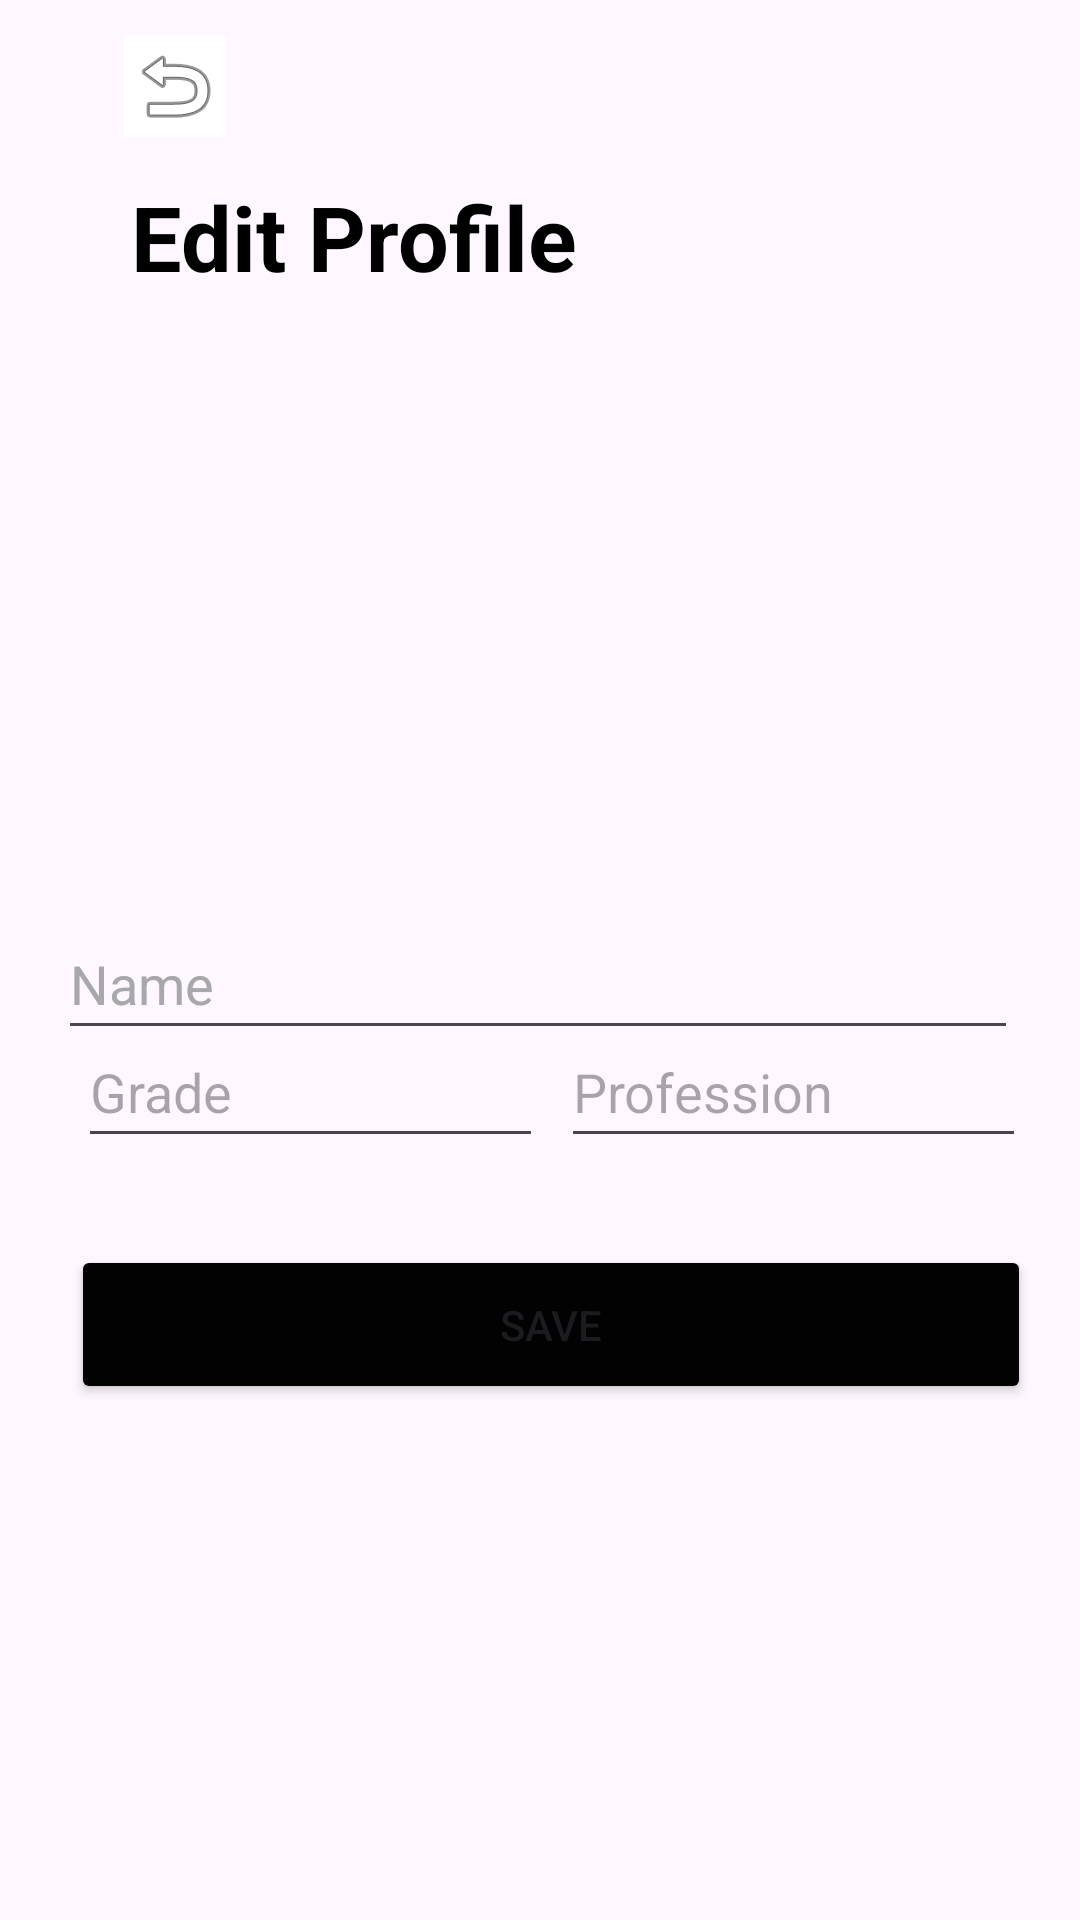

Icon click points for this 1080px x 1920px phone screenshot, format (x=x, y=y):
revert: (x=176, y=86)
